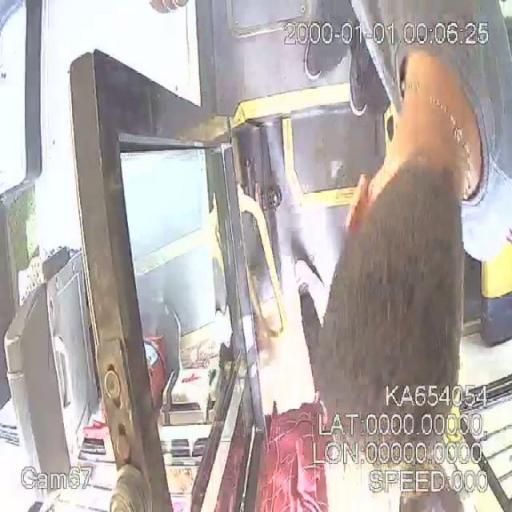persona: (298, 1, 511, 509)
